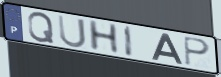A: (151, 32, 185, 66)
H: (86, 19, 121, 55)
I: (123, 25, 135, 60)
P: (182, 35, 212, 67)
Q: (27, 11, 56, 45)
U: (56, 14, 88, 49)
